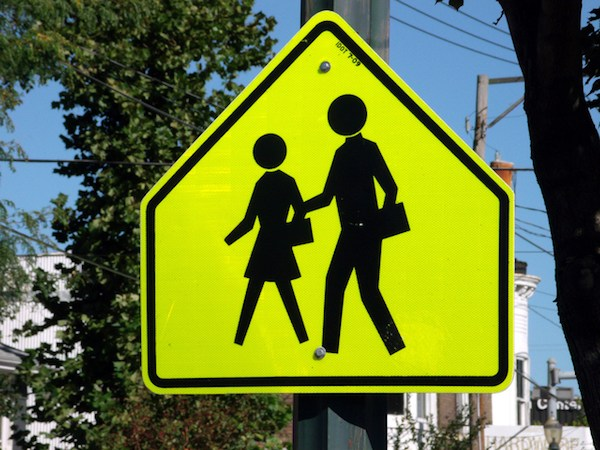slow: (137, 9, 519, 397)
